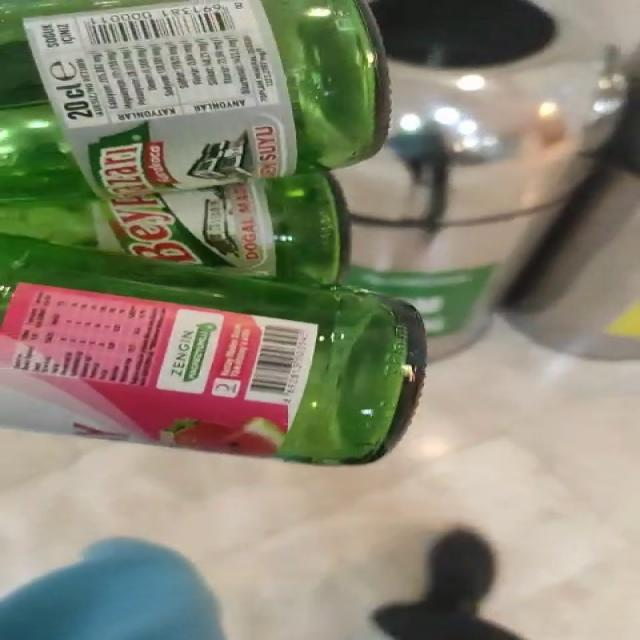glass: (1, 0, 427, 464)
